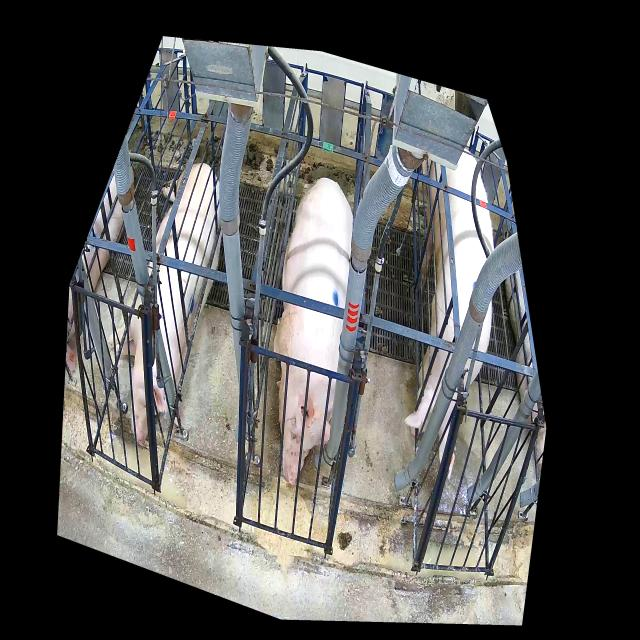pig: (107, 163, 222, 446), (404, 148, 494, 481), (273, 178, 353, 485)
